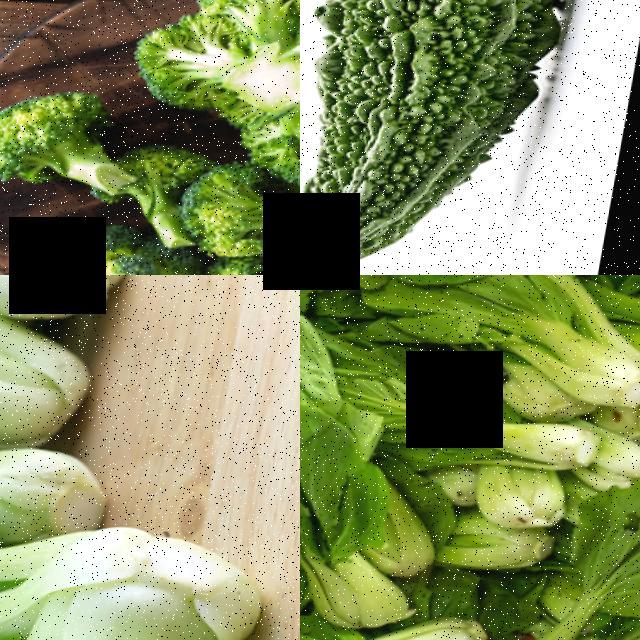bitter gourd: (300, 0, 640, 275)
bok choy: (0, 525, 240, 640), (491, 489, 640, 640), (439, 275, 635, 383), (397, 389, 610, 482), (0, 421, 124, 550), (300, 400, 357, 610), (0, 316, 97, 436), (300, 599, 500, 640), (474, 464, 570, 539)
broccoli: (134, 0, 300, 181), (0, 84, 145, 218), (177, 143, 300, 259), (0, 208, 161, 275)
